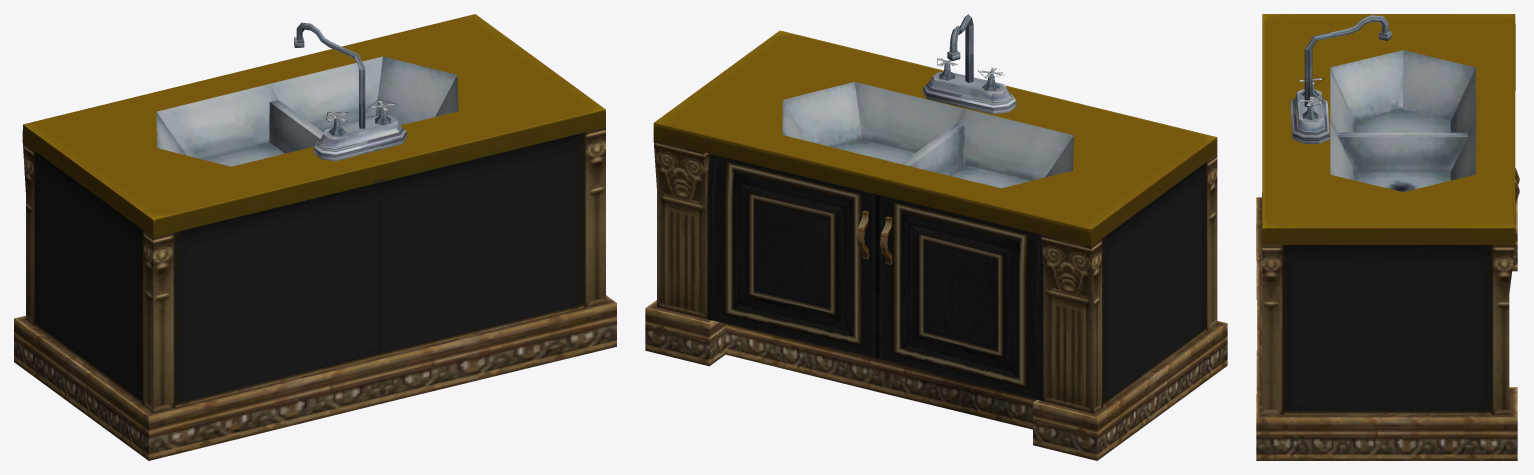
File: furni_0200327_03.FBX
3 views of the same model, side by side, from view 1: azimuth 30°, elevation 25°; view 2: azimuth 150°, elevation 25°; view 3: azimuth 270°, elevation 25° (orthographic). The views are drawn at different scales.
Parts seen in each view (by area): view 1: furni_0200327_03; view 2: furni_0200327_03; view 3: furni_0200327_03.
Boxes of the visible parts, <box> form: furni_0200327_03: <box>14,14,616,460</box>; furni_0200327_03: <box>645,14,1227,460</box>; furni_0200327_03: <box>1256,14,1519,460</box>.
Size of the model in its own units: 165 by 115 by 83.25.
1 material, 1 textured.
